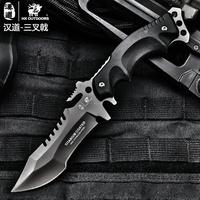knife: (9, 6, 182, 196)
